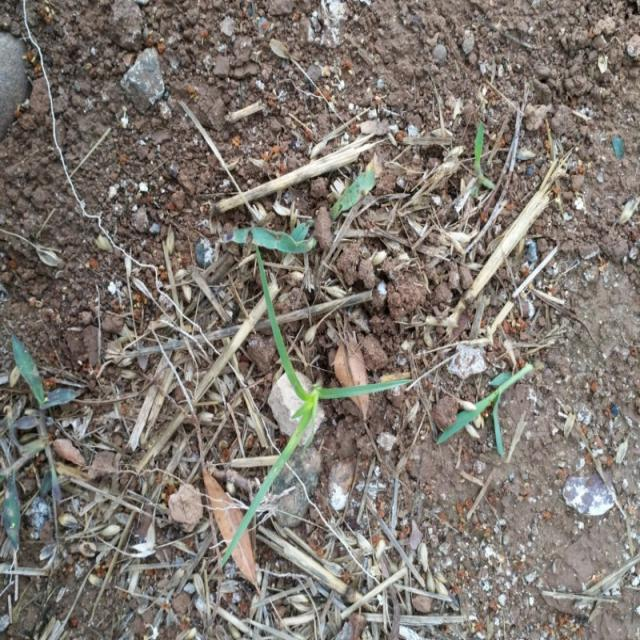sedge: (192, 241, 452, 537)
